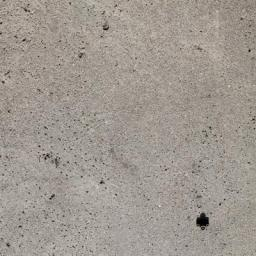FOD: (195, 211, 214, 233)
